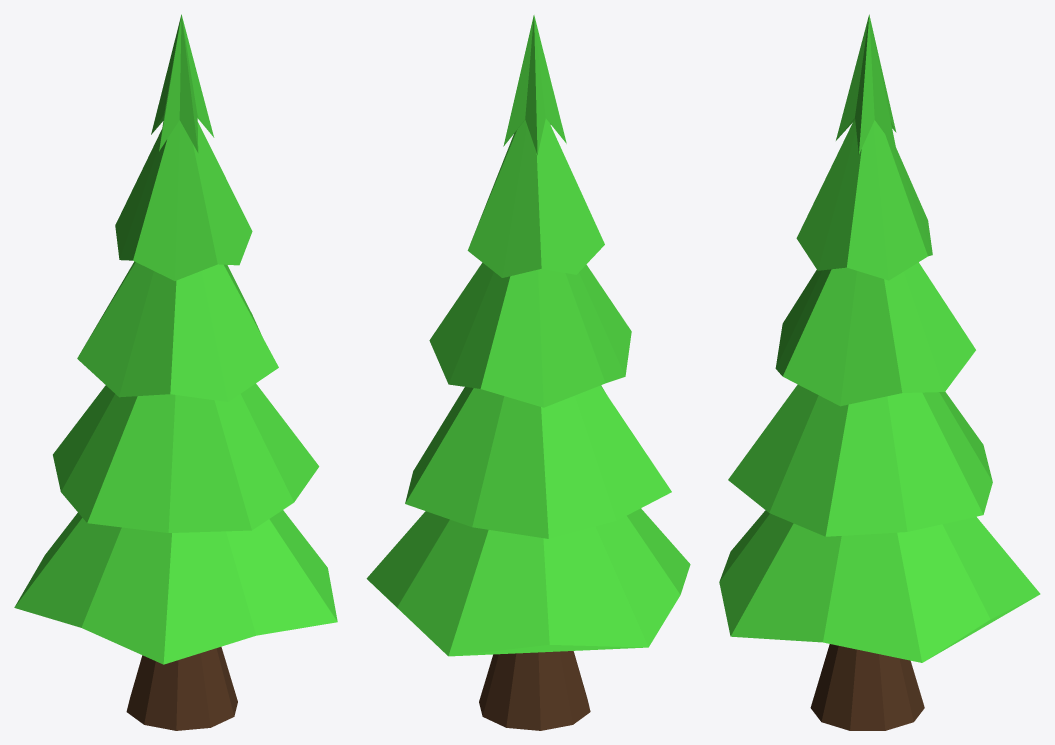
File: PineTree.fbx
The picture shows the model from 3 angles, left to right: view 1: azimuth 30°, elevation 25°; view 2: azimuth 150°, elevation 25°; view 3: azimuth 270°, elevation 25°; orthographic projection.
Visible parts, largest first — view 1: Cylinder; view 2: Cylinder; view 3: Cylinder.
Boxes of the visible parts, left/top/right/bottom form: Cylinder: left=14, top=14, right=337, bottom=730; Cylinder: left=366, top=15, right=690, bottom=730; Cylinder: left=719, top=14, right=1040, bottom=730.
Bounding box in the file's own units: 570 × 1340 × 562.
